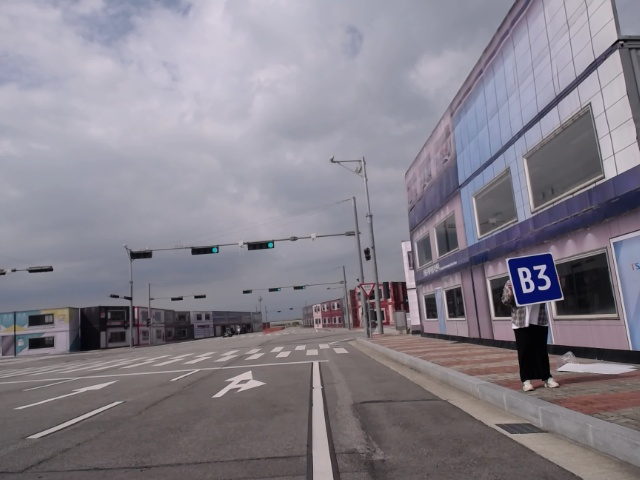delivery_b3: (505, 251, 565, 308)
straight_green_4: (188, 243, 221, 256), (246, 241, 275, 252), (292, 284, 307, 292), (266, 286, 283, 293)
